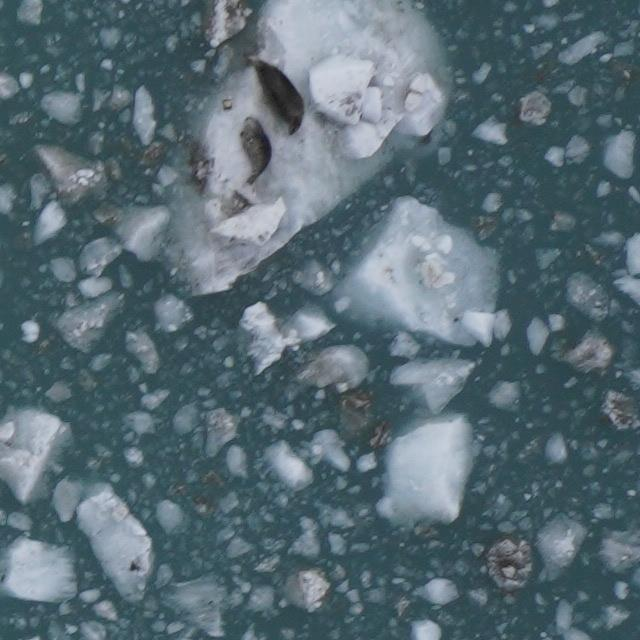seal: (245, 53, 309, 139), (237, 114, 275, 189)
